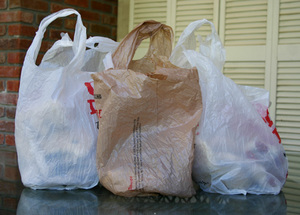Nonrec_Plastic: (12, 7, 291, 203), (89, 14, 197, 196), (185, 15, 286, 200), (13, 12, 107, 192)
